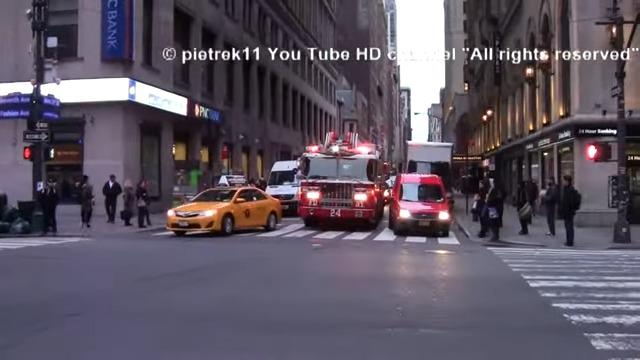Fire-engine: (295, 130, 390, 230)
